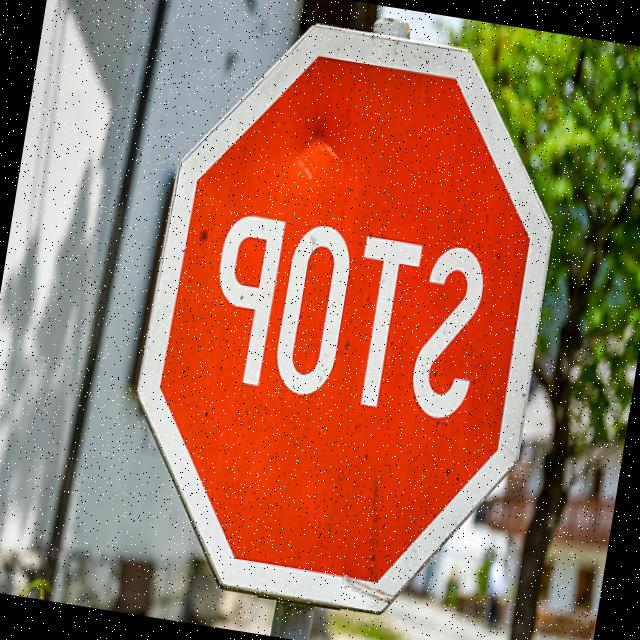stop: (94, 0, 594, 634)
